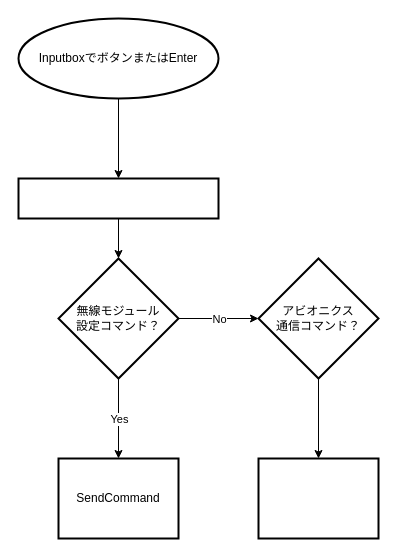
The diagram is 396 pixels wide and 556 high, and some of its shapes have lost their labels. Here are the shapes that lost their labels. From the top down, the centre of each, then its label:
At [118,198]: "InputBox内容取得".
At [318,498]: "SendBroadCast".
